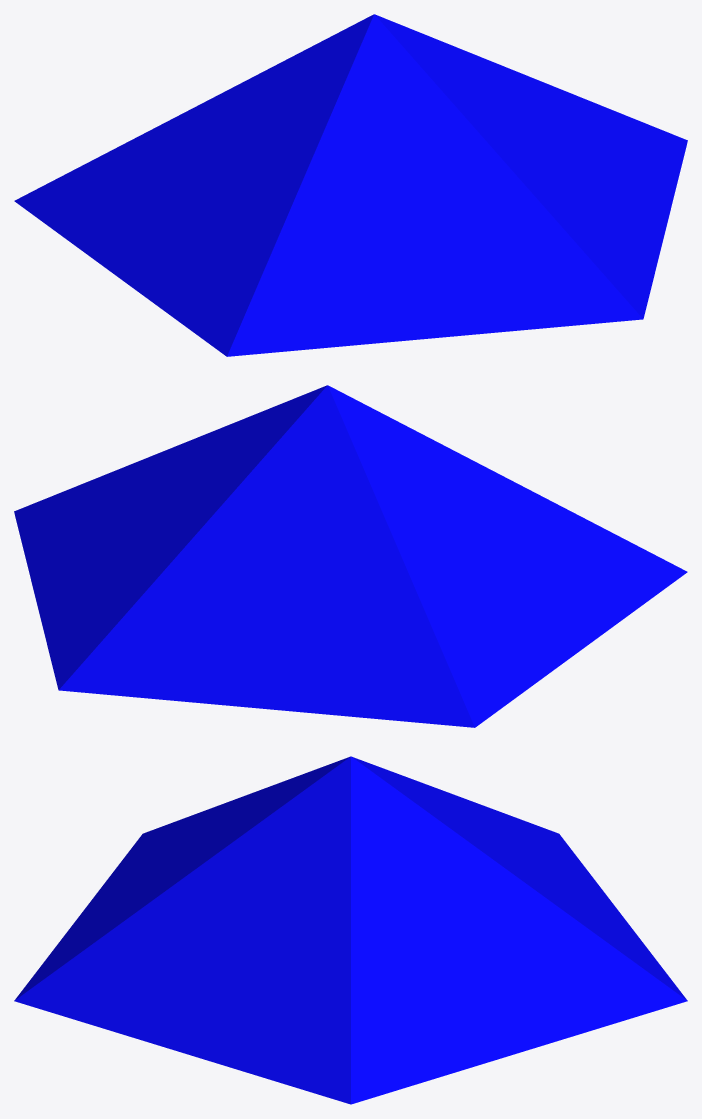
Rendered from regular_pentagonal_pyramid.fbx.
The picture shows the model from 3 angles, top to bottom: view 1: azimuth 30°, elevation 25°; view 2: azimuth 150°, elevation 25°; view 3: azimuth 270°, elevation 25°; orthographic projection. The views are drawn at different scales.
Parts seen in each view (by area): view 1: regular_pentagonal_pyramid; view 2: regular_pentagonal_pyramid; view 3: regular_pentagonal_pyramid.
Part boxes in pixels (x1,y1,x2,y2): regular_pentagonal_pyramid: (14,14,687,356); regular_pentagonal_pyramid: (14,385,687,727); regular_pentagonal_pyramid: (14,756,687,1104).
Size of the model in its own units: 161 by 55.08 by 170.
